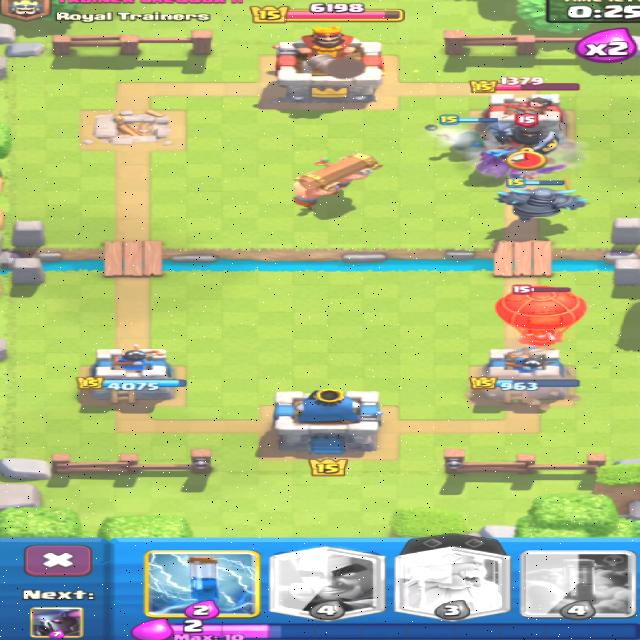Enemy-Balloon: (497, 290, 583, 344)
Enemy-DarkPrince-Shield: (490, 115, 558, 151)
Enemy-KingTower-Activated: (276, 27, 382, 101)
Enemy-PrincessTower: (484, 93, 564, 131)
Player-Bandit: (437, 131, 485, 151)
Player-BattleRam: (296, 154, 380, 207)
Player-KingTower: (272, 388, 382, 453)
Player-PEKKA: (498, 183, 585, 221)
Player-PrincessTower: (77, 344, 186, 404), (468, 344, 578, 402)
Player-RoyalGhost-Minion: (477, 147, 566, 178)
